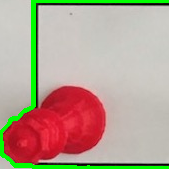Red Queen: (2, 84, 113, 165)
